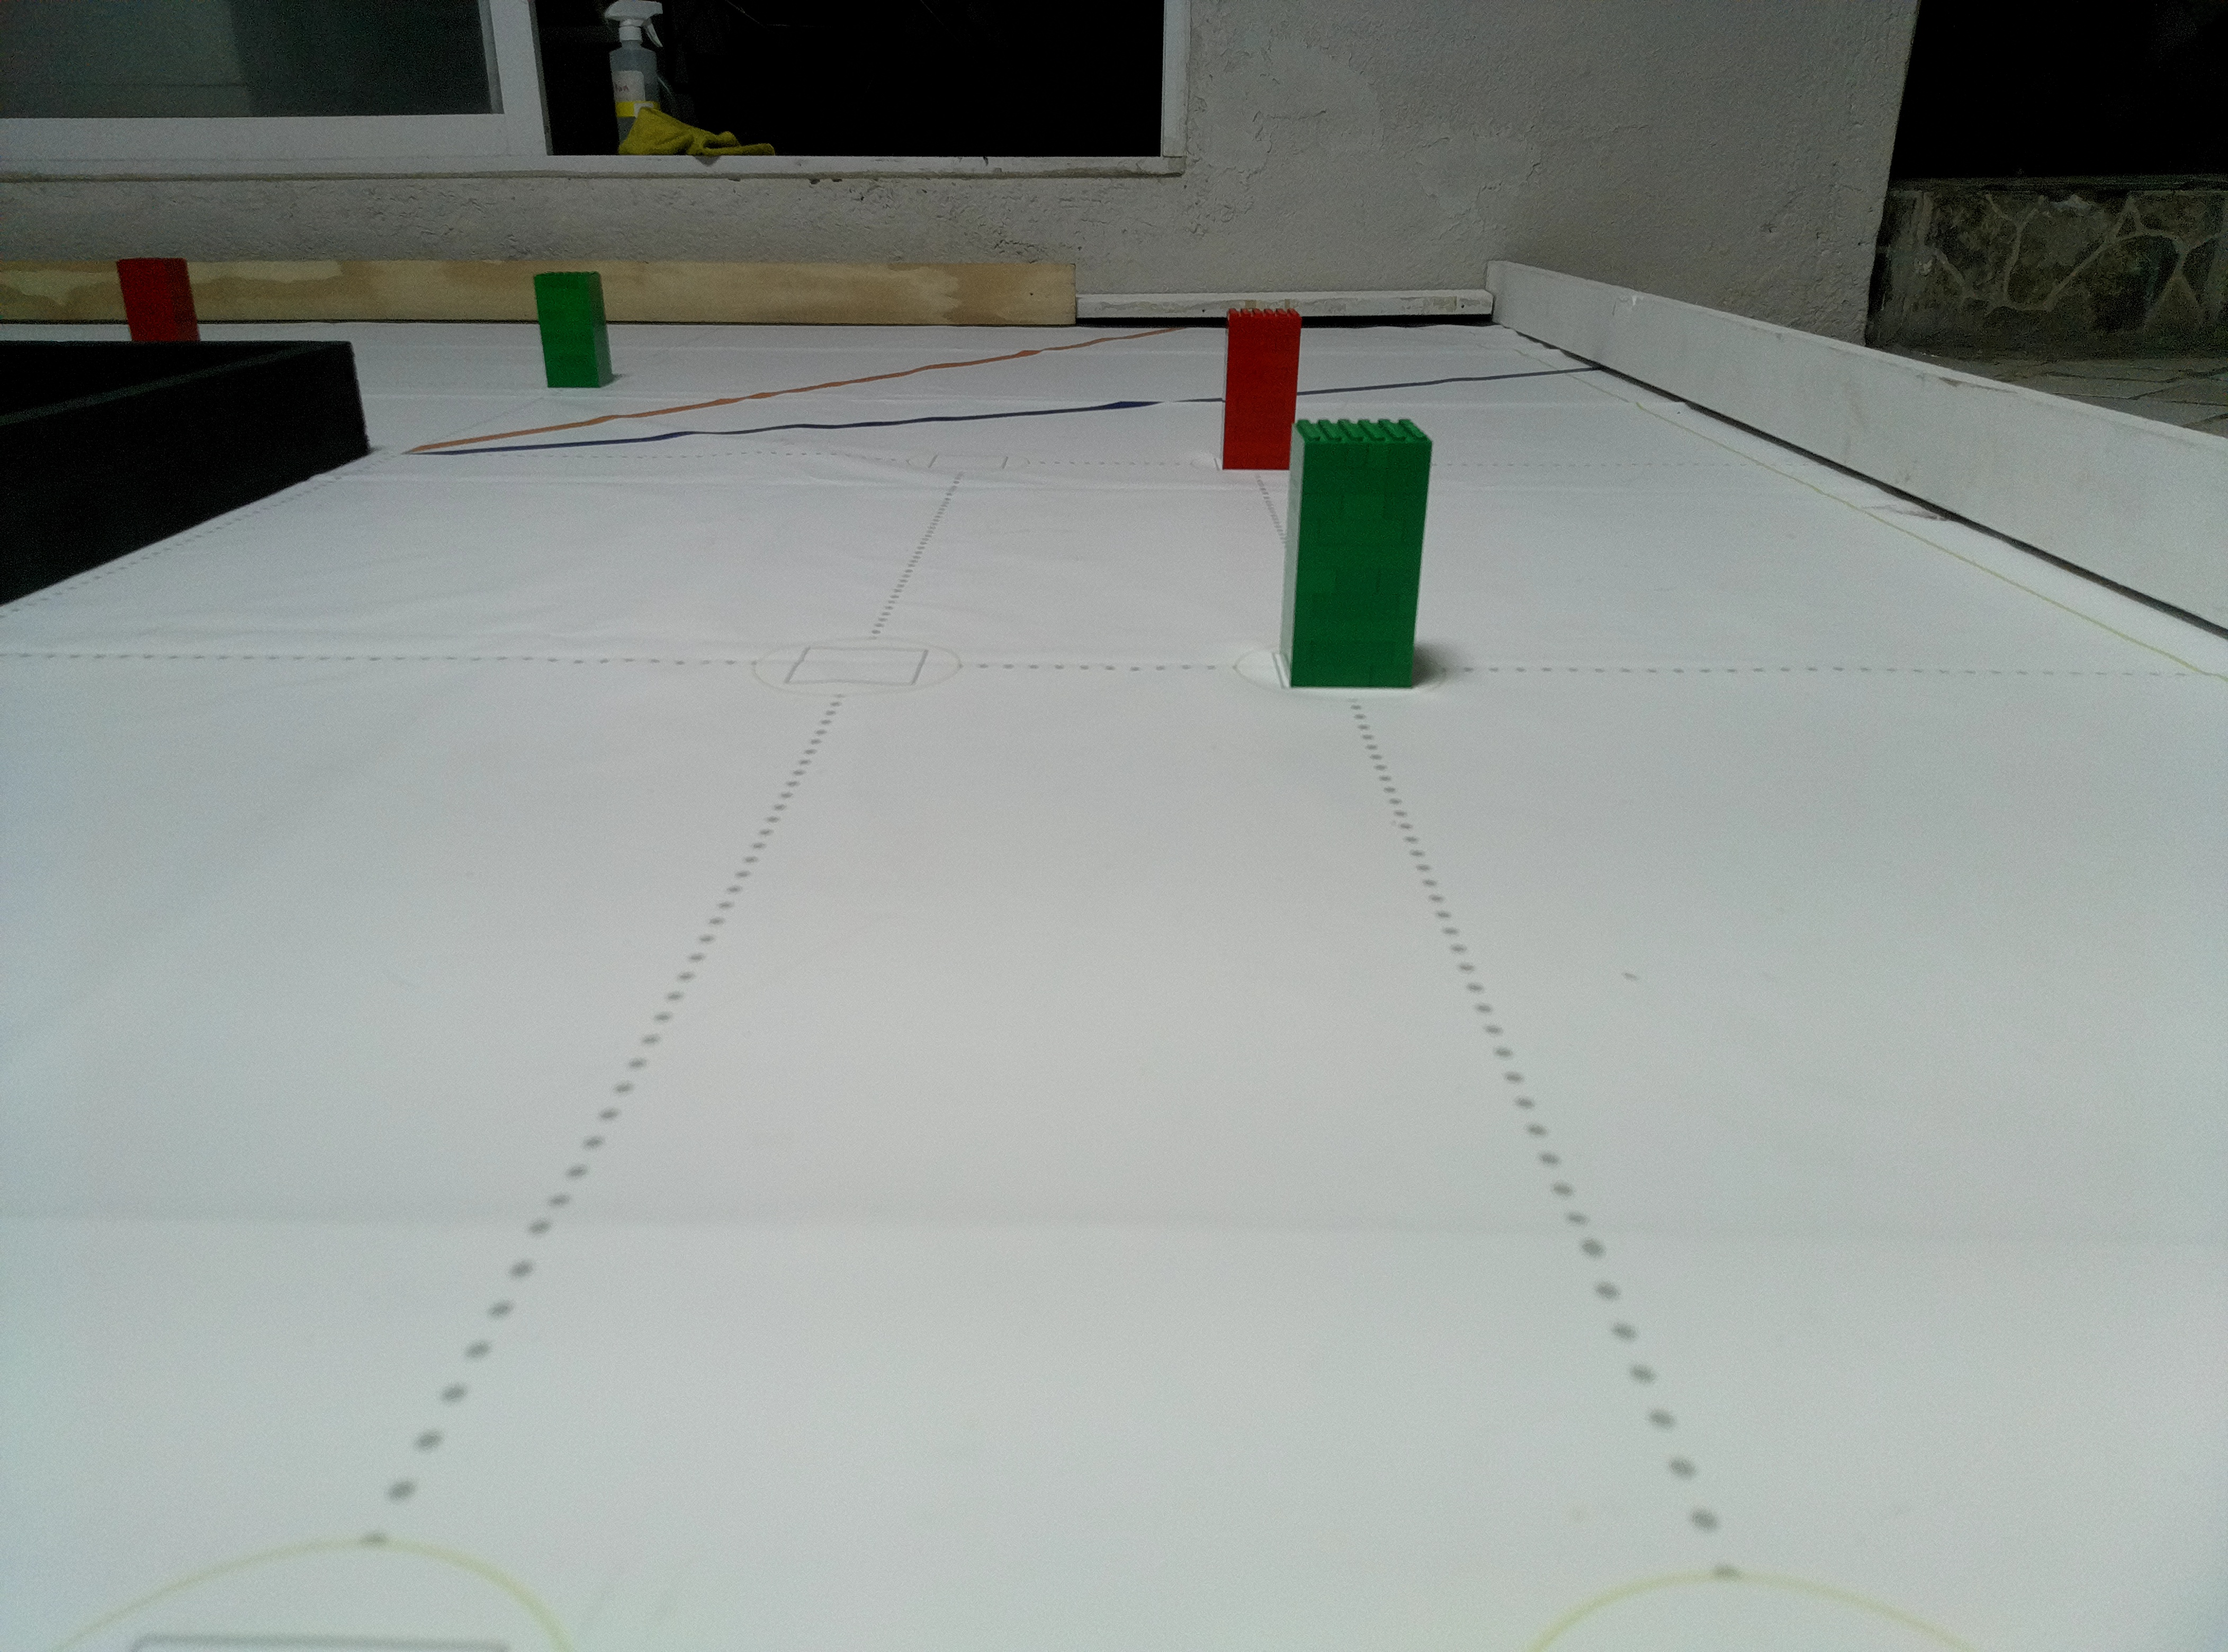greenbox: (1279, 418, 1437, 692), (533, 271, 616, 392)
redbox: (1218, 304, 1305, 472), (115, 255, 208, 344), (161, 255, 165, 257)
